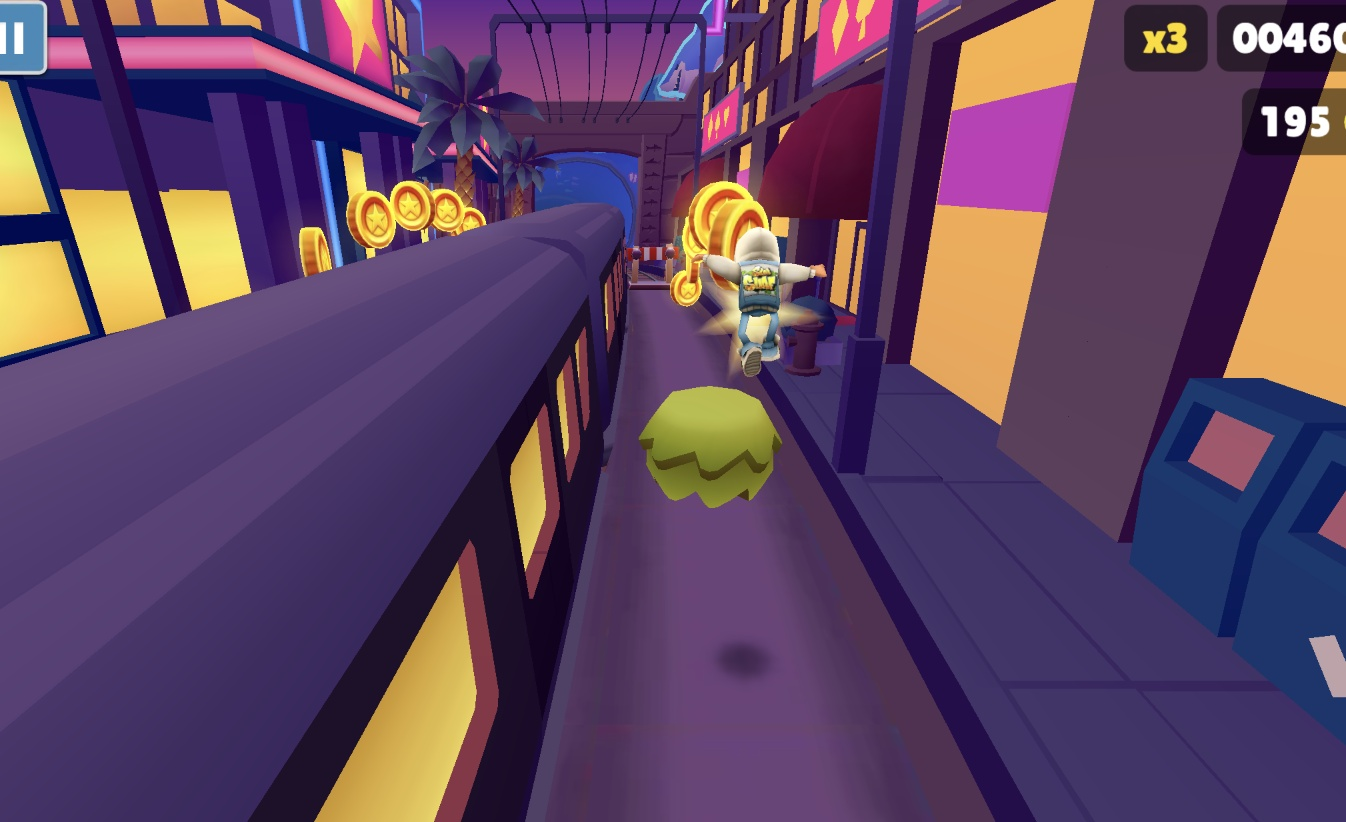bush: (638, 386, 785, 508)
ground_barrier: (625, 245, 680, 290)
train: (0, 202, 627, 822)
